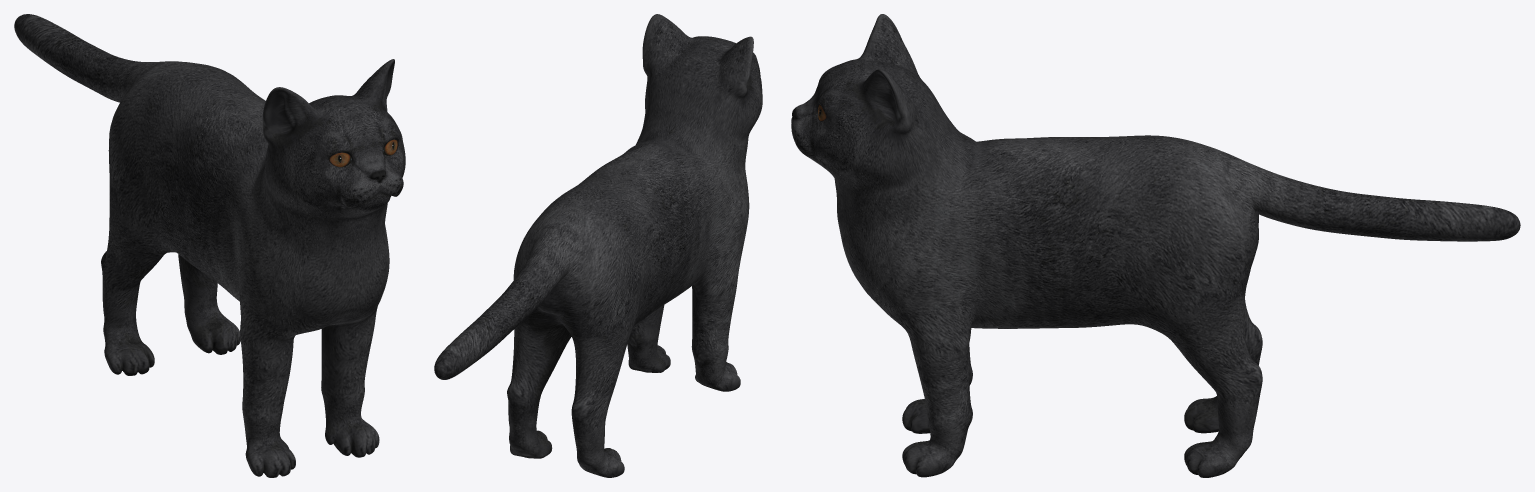
3 views of the same model, side by side, from view 1: azimuth 30°, elevation 25°; view 2: azimuth 150°, elevation 25°; view 3: azimuth 270°, elevation 25° (orthographic). The views are drawn at different scales.
Parts seen in each view (by area): view 1: 12222_Cat_v1_l3; view 2: 12222_Cat_v1_l3; view 3: 12222_Cat_v1_l3.
Boxes of the visible parts, left/top/right/bottom form: 12222_Cat_v1_l3: left=14, top=14, right=405, bottom=477; 12222_Cat_v1_l3: left=434, top=14, right=762, bottom=477; 12222_Cat_v1_l3: left=791, top=14, right=1520, bottom=477.
Bounding box in the file's own units: 0.4322 × 1.29 × 2.1.
1 material, 1 textured.
